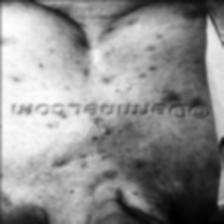Toxin: (83, 117, 111, 139), (158, 89, 198, 104), (98, 76, 132, 93), (72, 36, 94, 52), (133, 64, 155, 78), (0, 190, 14, 207), (50, 155, 66, 167), (100, 168, 119, 178), (0, 35, 14, 48), (5, 74, 21, 82), (129, 160, 143, 168), (42, 120, 56, 128), (80, 68, 90, 76), (56, 112, 68, 118)
